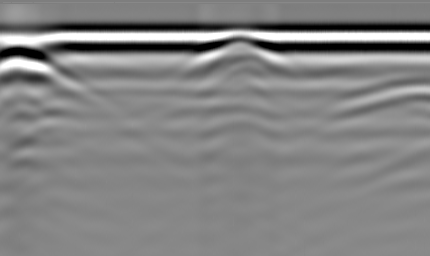pipe: (207, 35, 274, 62)
steel: (1, 44, 52, 86)
